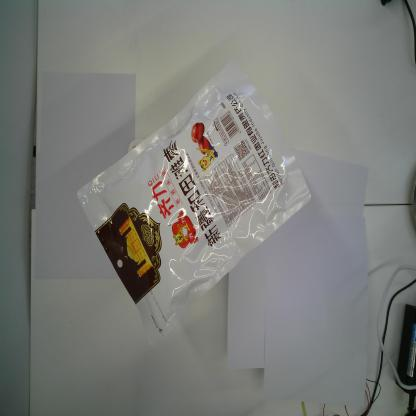Dried Food: (76, 58, 312, 344)
